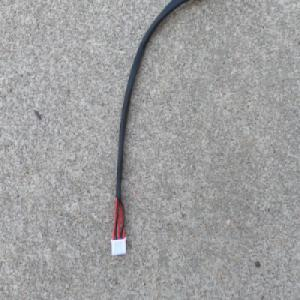Wire: (109, 0, 222, 260)
